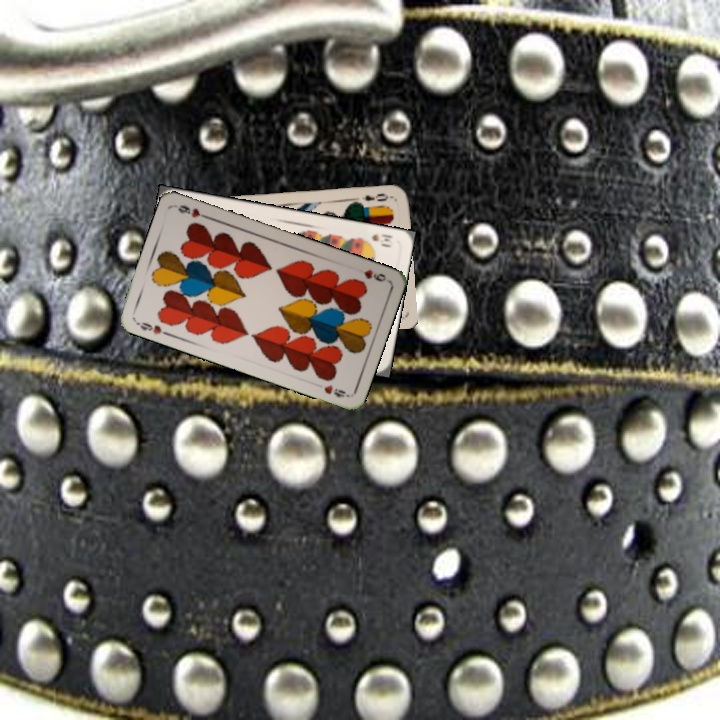EO: (358, 189, 391, 204)
H9: (132, 318, 171, 338), (360, 265, 389, 284)
S10: (357, 230, 396, 250)
